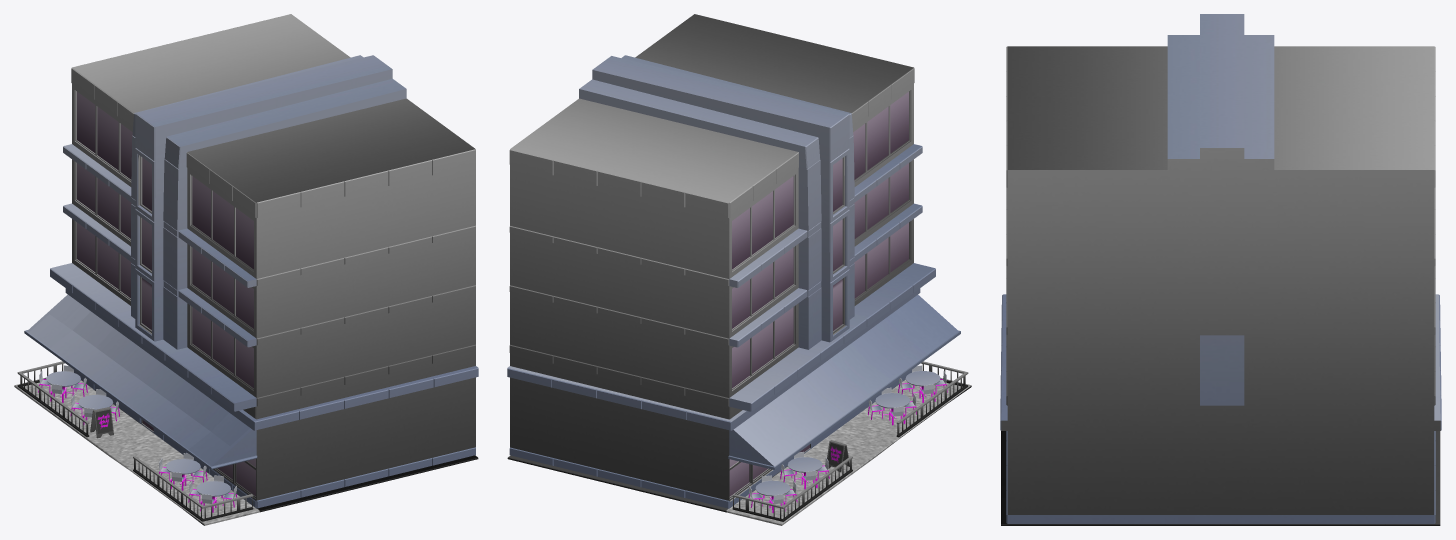
File: miami_buildings_V2_008.FBX
3 renders of one model, left to right at view 1: azimuth 30°, elevation 25°; view 2: azimuth 150°, elevation 25°; view 3: azimuth 270°, elevation 25°, orthographic. The views are drawn at different scales.
Parts seen in each view (by area): view 1: Box007, Box142, Plane072, Box143; view 2: Box007, Box142, Plane072; view 3: Box007, Box142.
Boxes of the visible parts, x1,y1,x2,y2 form: Box007: (24, 14, 478, 508); Box142: (14, 377, 478, 525); Plane072: (17, 361, 253, 521); Box143: (90, 407, 113, 438); Box007: (507, 14, 960, 508); Box142: (507, 378, 971, 525); Plane072: (732, 361, 968, 521); Box007: (1000, 14, 1441, 523); Box142: (1001, 431, 1440, 525).
Bounding box in the file's own units: 601 × 684 × 724.
